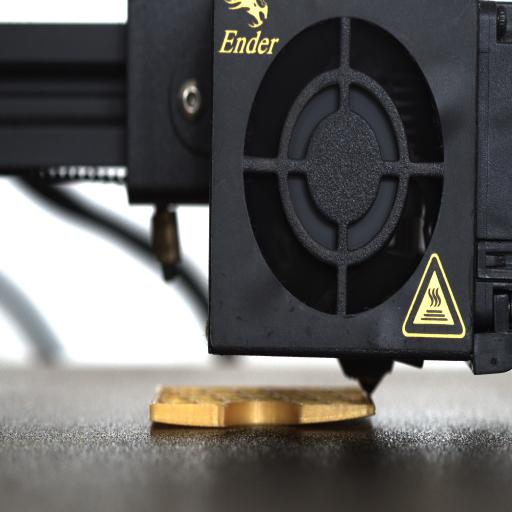warp: (305, 406, 377, 432), (145, 410, 202, 432)
